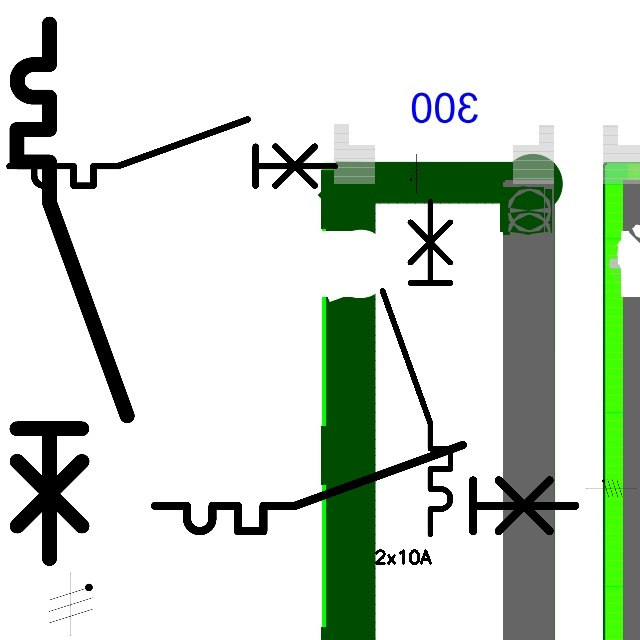interruptor_termomagnetico: (3, 10, 140, 572), (144, 434, 586, 542), (374, 193, 459, 543), (1, 111, 343, 194)
